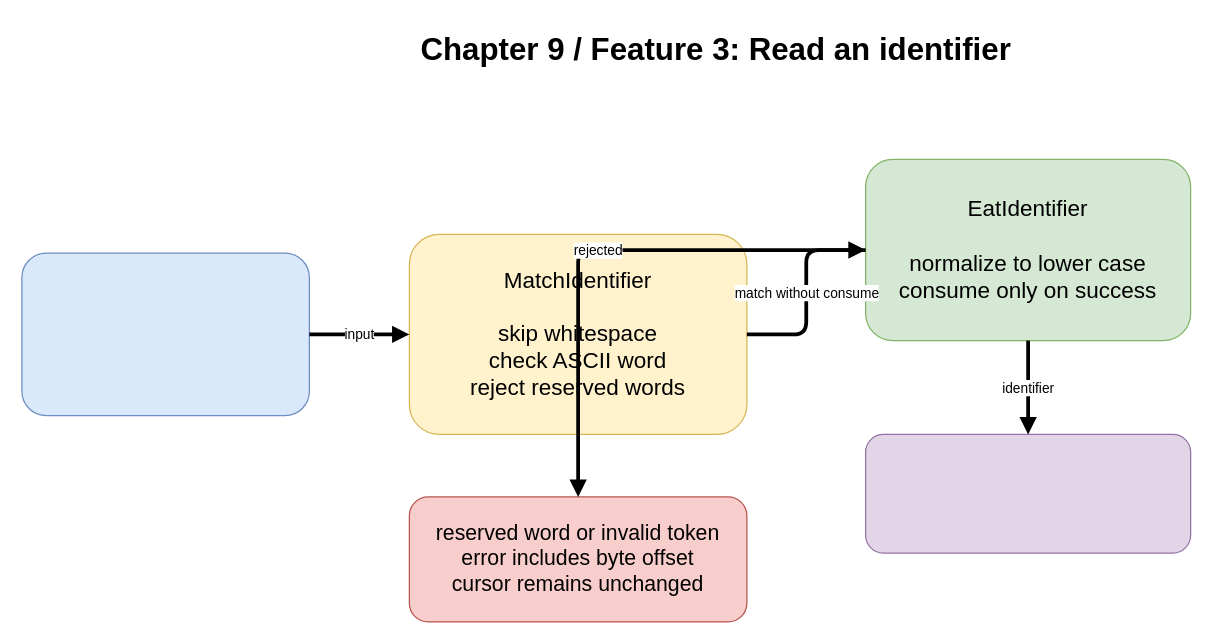
This 1225x644 diagram has some shape labels left out. Each missing label, with the box of its shape:
SQL input Student_4 from: (21, 252, 309, 416)
value = student_4 next input = from: (864, 433, 1191, 553)
